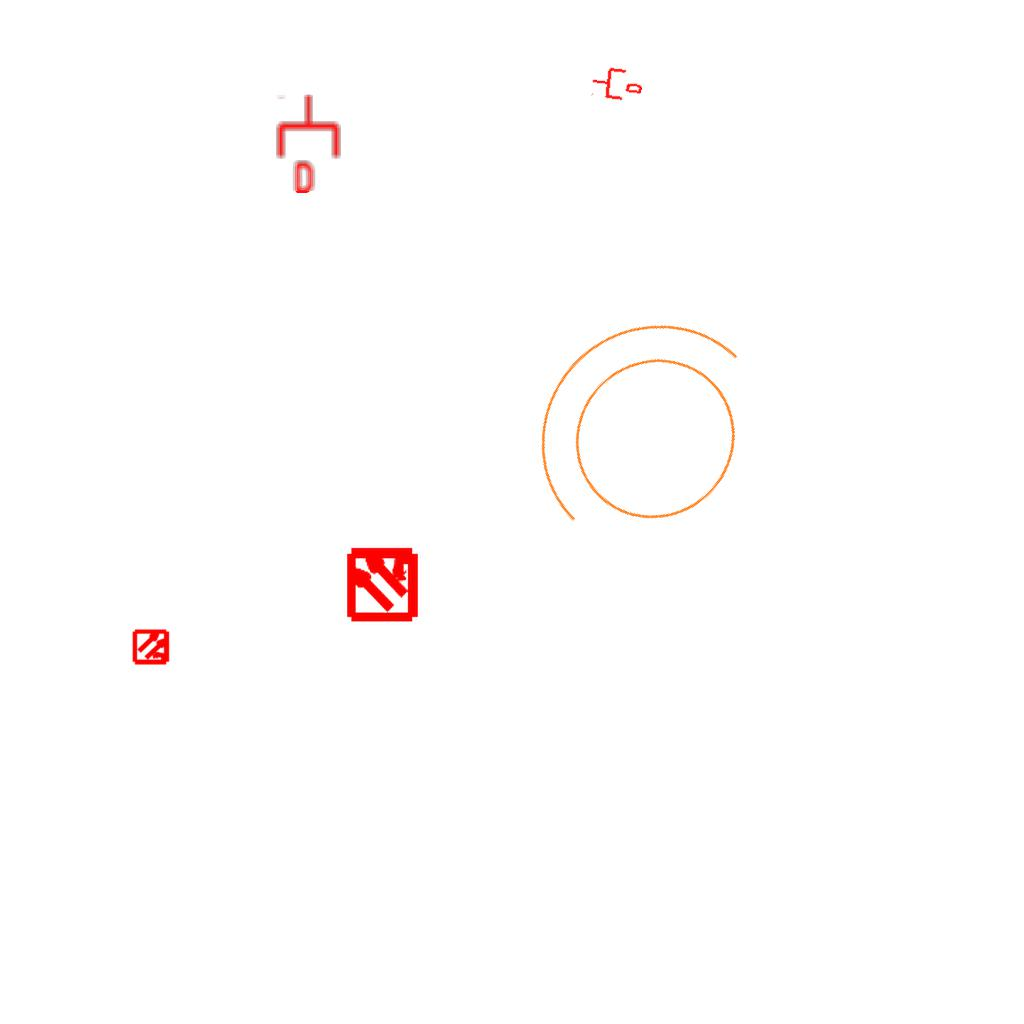Datenanschluss_einfach: (274, 93, 343, 193), (590, 64, 644, 104)
OT_Multisensormelder_(Kombination_RMO_WMD): (326, 526, 439, 639), (124, 619, 180, 675)
Scheinwerfer_fuer_Alarmbeleuchtung: (471, 263, 817, 610)
